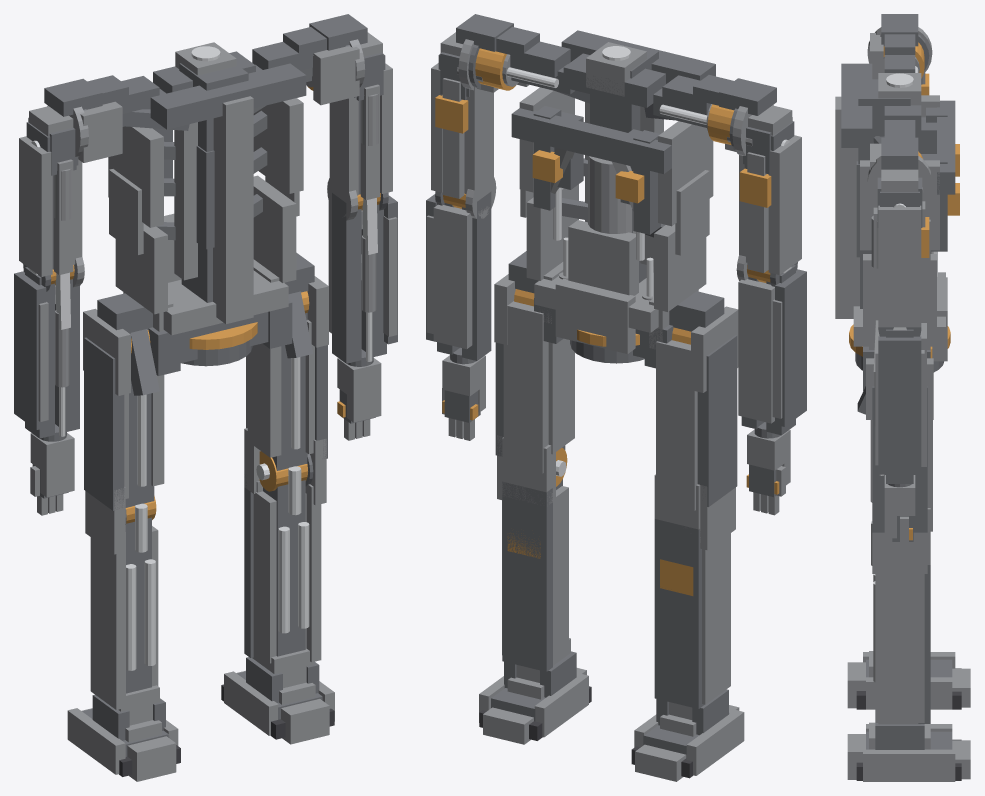
Rendered from valkren_innerframe.glb.
3 renders of one model, left to right at view 1: azimuth 30°, elevation 25°; view 2: azimuth 150°, elevation 25°; view 3: azimuth 270°, elevation 25°, orthographic. The views are drawn at different scales.
Parts seen in each view (by area): view 1: Body_RearBeam, Thigh_GuardOut_L, Shin_ShellOut_L, Body_ArchTop, Arm_ForeBeamL_R, Arm_UpperShellOut_L, Shin_SideL_R, Arm_ForeGuardOut_L, Thigh_SideIn_R, Body_SidePlateLower_R, Body_SidePlateUpper_R, Body_SidePlateUpper_L (+81 smaller); view 2: Shin_ShellFront_R, Shin_ShellFront_L, Thigh_GuardFront_R, Thigh_GuardFront_L, Thigh_GuardOut_L, Arm_ForeGuardFront_R, Body_ChestBeamFront, Arm_ForeGuardFront_L, Shin_ShellOut_L, Body_WaistFrontPlate, Body_BellyPlate, Arm_UpperShellOut_L (+62 smaller); view 3: Shin_ShellOut_R, Arm_ForeGuardOut_R, Arm_UpperShellOut_R, Body_RearBeam, Foot_WallOut_R, Body_ArchTop, Thigh_GuardOut_R, Body_SidePlateUpper_R, Knee_CoverOut_R, Body_SidePlateLower_R, Body_ChestBeamFront, Body_SpineUpper (+47 smaller).
Part boxes in pixels (<box>): Body_RearBeam: <box>213,96,253,323</box>; Thigh_GuardOut_L: <box>84,337,124,510</box>; Shin_ShellOut_L: <box>90,532,125,709</box>; Body_ArchTop: <box>150,63,306,129</box>; Arm_ForeBeamL_R: <box>332,193,361,363</box>; Arm_UpperShellOut_L: <box>19,136,52,276</box>; Shin_SideL_R: <box>253,491,276,663</box>; Arm_ForeGuardOut_L: <box>14,271,46,429</box>; Thigh_SideIn_R: <box>247,343,281,457</box>; Body_SidePlateLower_R: <box>253,175,296,282</box>; Body_SidePlateUpper_R: <box>253,98,303,193</box>; Body_SidePlateUpper_L: <box>108,126,163,227</box>; Shin_ShellFront_R: <box>502,481,552,671</box>; Shin_ShellFront_L: <box>654,519,704,708</box>; Thigh_GuardFront_R: <box>503,301,548,473</box>; Thigh_GuardFront_L: <box>656,340,697,510</box>; Thigh_GuardOut_L: <box>697,335,737,506</box>; Arm_ForeGuardFront_R: <box>433,204,472,349</box>; Body_ChestBeamFront: <box>511,108,671,173</box>; Arm_ForeGuardFront_L: <box>738,279,774,423</box>; Shin_ShellOut_L: <box>702,533,730,704</box>; Body_WaistFrontPlate: <box>555,278,635,353</box>; Body_BellyPlate: <box>568,220,638,295</box>; Arm_UpperShellOut_L: <box>768,135,801,274</box>; Shin_ShellOut_R: <box>875,574,924,722</box>; Arm_ForeGuardOut_R: <box>878,336,921,474</box>; Arm_UpperShellOut_R: <box>878,205,921,327</box>; Body_RearBeam: <box>835,96,859,318</box>; Foot_WallOut_R: <box>863,749,955,781</box>; Body_ArchTop: <box>841,63,872,147</box>; Thigh_GuardOut_R: <box>872,386,927,532</box>; Body_SidePlateUpper_R: <box>860,160,939,250</box>; Knee_CoverOut_R: <box>872,532,927,573</box>; Body_SidePlateLower_R: <box>863,254,936,332</box>; Body_ChestBeamFront: <box>937,100,955,194</box>; Body_SpineUpper: <box>858,79,910,164</box>.
Size of the model in its own units: 2.59 by 4.7 by 0.88.
